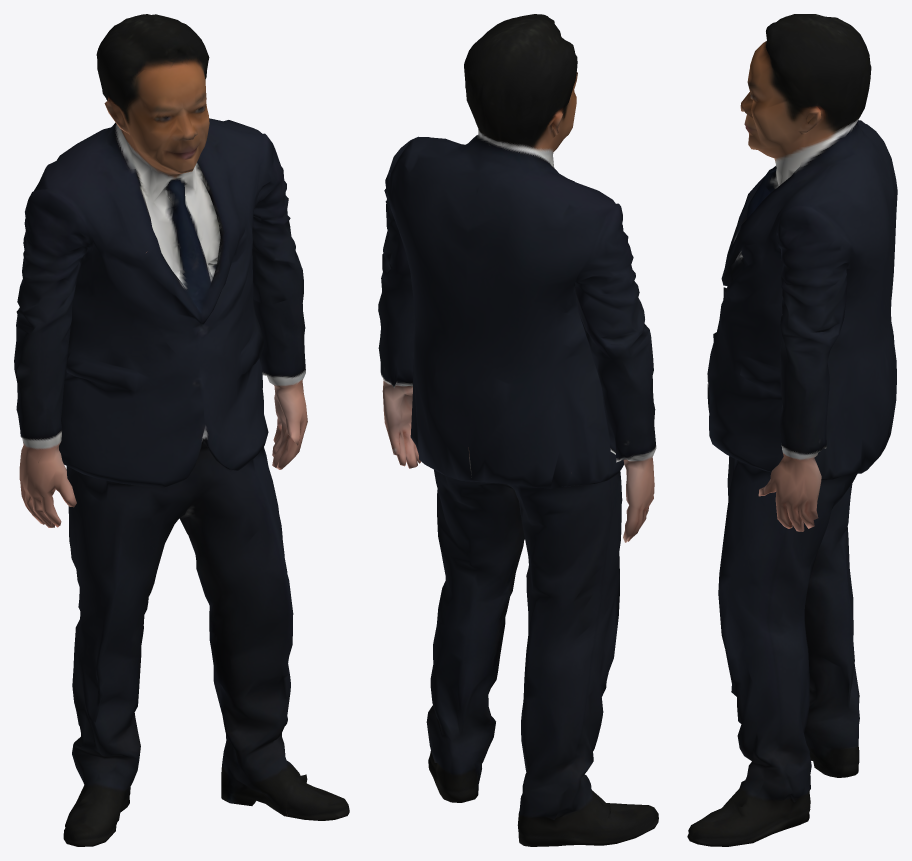
The model's file is masyarakat_1_idle.glb.
3 views of the same model, side by side, from view 1: azimuth 30°, elevation 25°; view 2: azimuth 150°, elevation 25°; view 3: azimuth 270°, elevation 25° (orthographic). The views are drawn at different scales.
Parts seen in each view (by area): view 1: tripo_node_31d276e5; view 2: tripo_node_31d276e5; view 3: tripo_node_31d276e5.
Boxes of the visible parts, x1,y1,x2,y2 form: tripo_node_31d276e5: (14, 14, 349, 846); tripo_node_31d276e5: (378, 14, 658, 846); tripo_node_31d276e5: (687, 14, 897, 846).
Size of the model in its own units: 36.3 by 99.28 by 24.65.
1 material, 1 textured.
